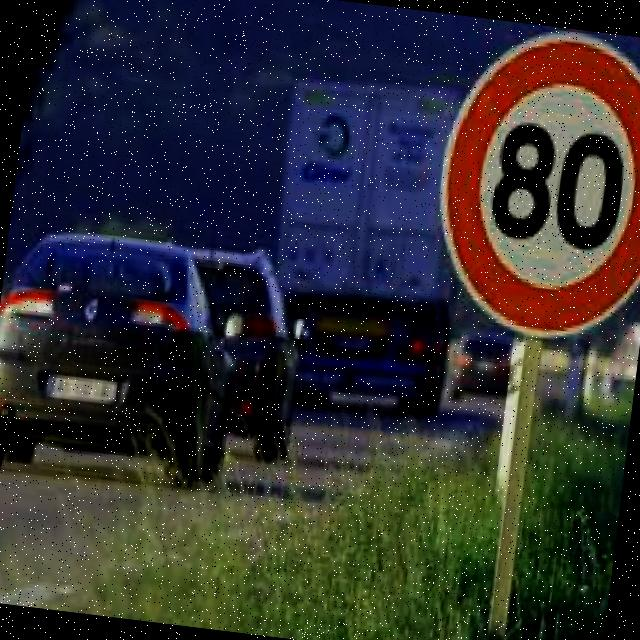Ograniczenie predkosci do 80: (442, 47, 640, 343)
